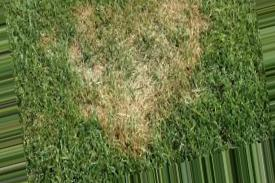patch: (112, 98, 151, 126), (130, 70, 160, 91), (157, 46, 181, 70), (172, 1, 192, 25), (146, 21, 167, 40), (110, 70, 126, 94), (166, 76, 187, 93), (121, 135, 147, 148), (131, 54, 150, 68), (93, 108, 108, 117)
